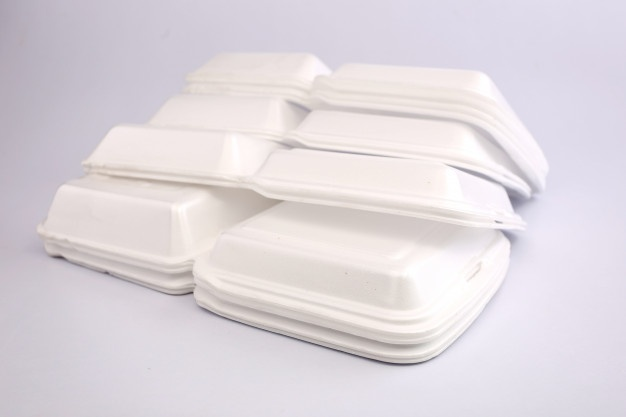Foam Box: (33, 43, 556, 370)
